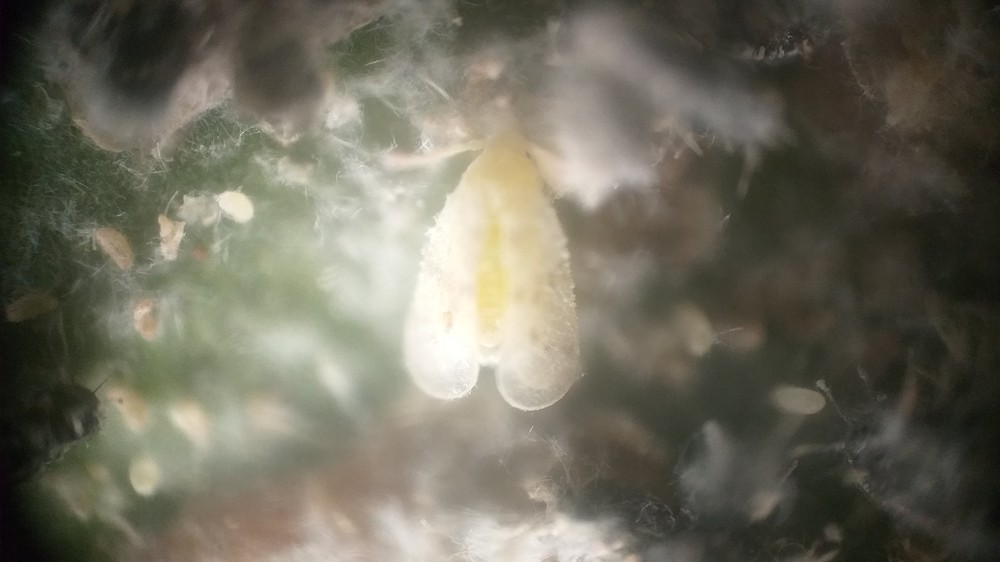Mosca Blanca: (367, 126, 651, 430)
